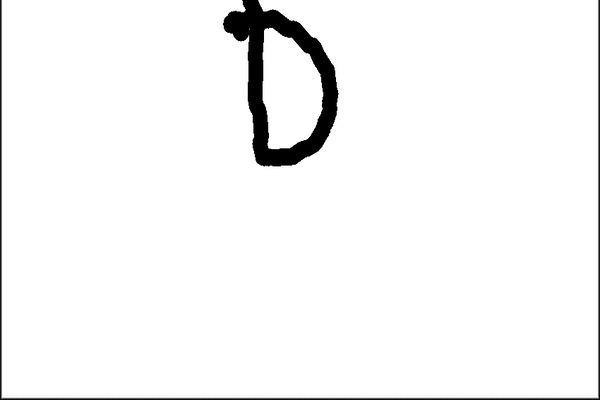D: (213, 2, 351, 169)
